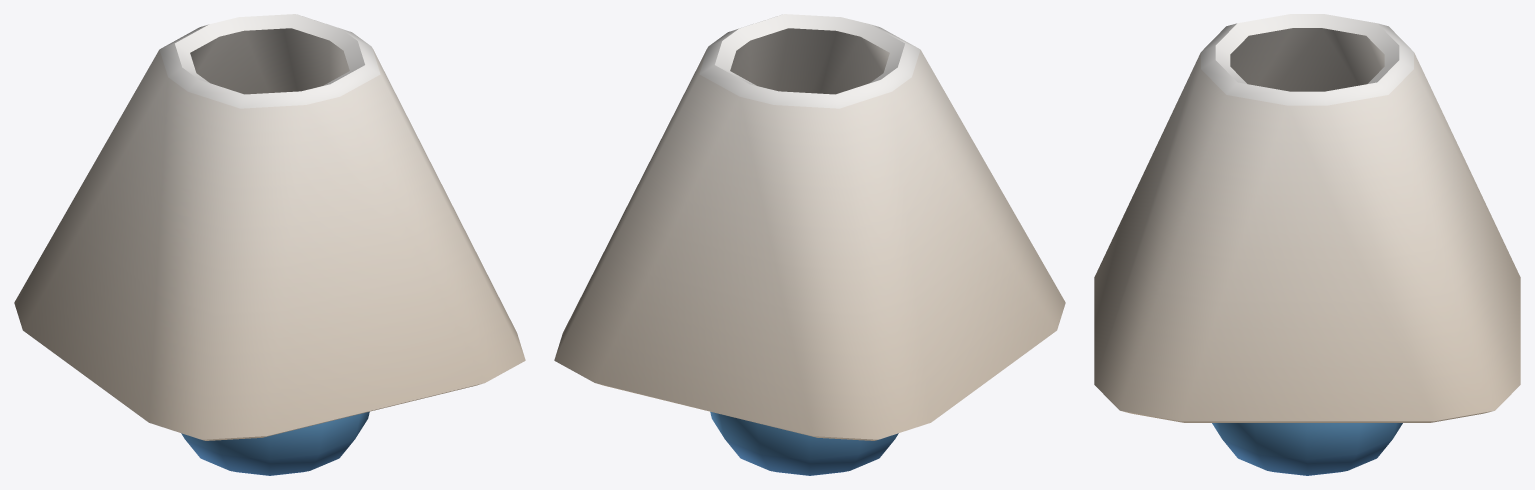
File: kk_lamp_table.glb
3 views of the same model, side by side, from view 1: azimuth 30°, elevation 25°; view 2: azimuth 150°, elevation 25°; view 3: azimuth 270°, elevation 25° (orthographic).
Parts seen in each view (by area): view 1: lamp_table; view 2: lamp_table; view 3: lamp_table.
Boxes of the visible parts, <box> form: lamp_table: <box>14,14,525,475</box>; lamp_table: <box>554,14,1065,475</box>; lamp_table: <box>1094,14,1520,475</box>.
Bounding box in the file's own units: 1 × 1.02 × 1.
Materials: 1 (1 with a texture image).
